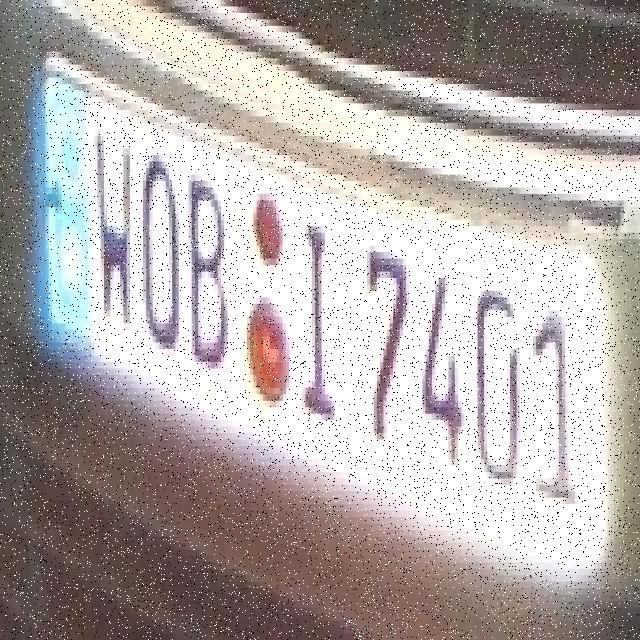LicensePlate: (29, 27, 613, 615)
